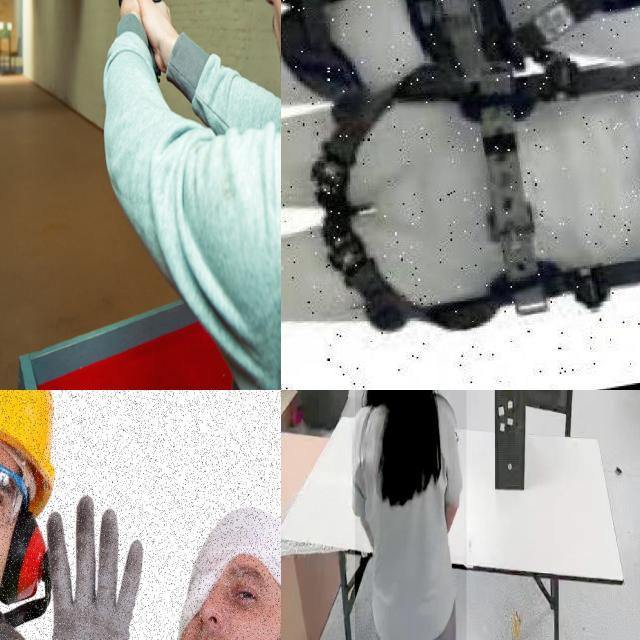Ear-protection: (0, 438, 56, 620)
Harness: (296, 6, 640, 355), (281, 0, 640, 113)
glasses: (0, 436, 26, 535)
head_helmet: (0, 390, 67, 488)
head_nohelmet: (165, 489, 281, 640)
person: (111, 444, 281, 640), (355, 390, 467, 640)
